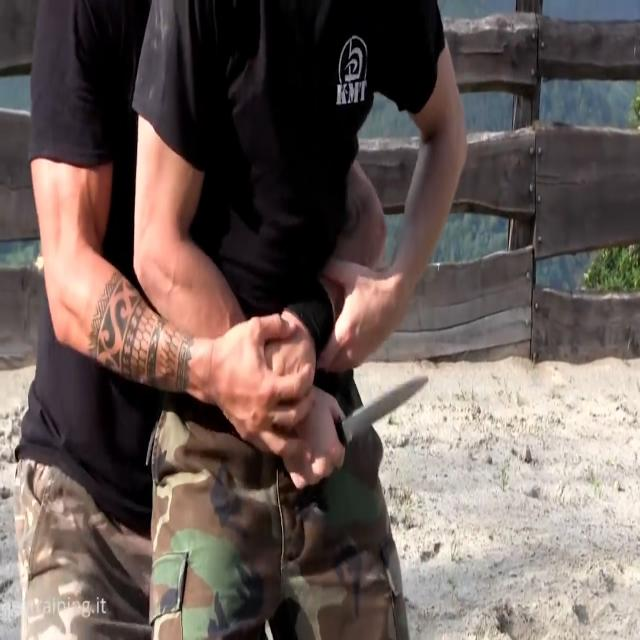knife: (341, 373, 433, 447)
